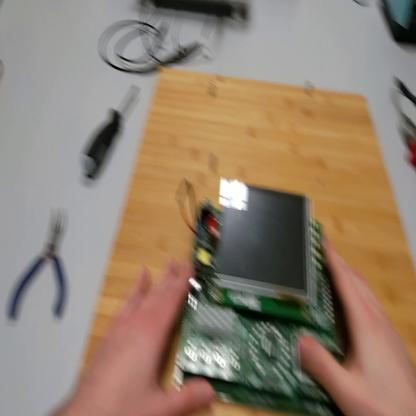hand: (298, 231, 416, 416), (72, 260, 210, 415)
low voltage board: (182, 186, 357, 416)
oscilloscope: (144, 1, 250, 23)
oscilloscope probe tip: (150, 43, 203, 72)
pliers: (7, 213, 67, 321)
screwdriver-: (85, 81, 137, 179)
welder station: (382, 1, 416, 45)
working area: (76, 69, 415, 413)
